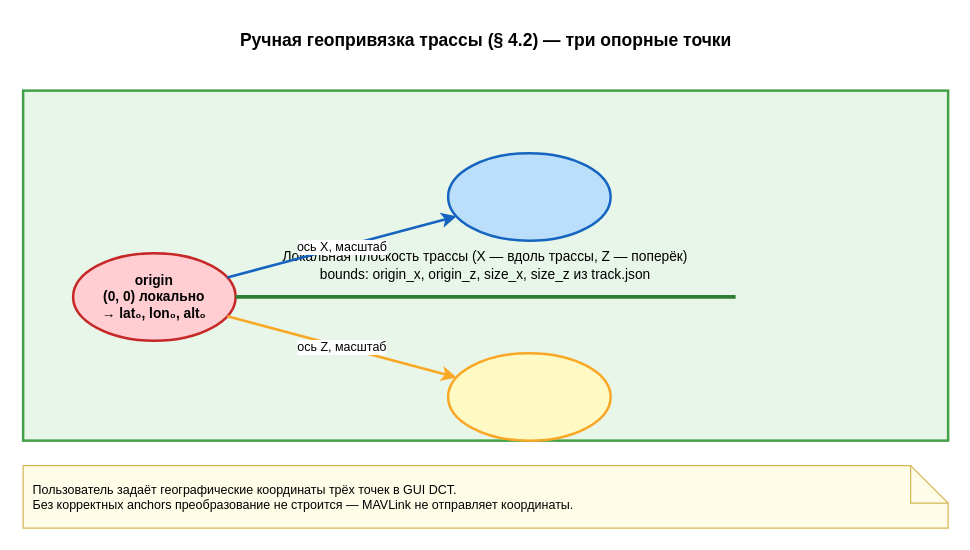
Image size: 970x550. Some labels were removed from this diagram. The centre of each missing label's shape, as x and y in pixels:
x направление оси X → lat_x, lon_x: the point at 528,196
z направление оси Z → lat_z, lon_z: the point at 528,396
